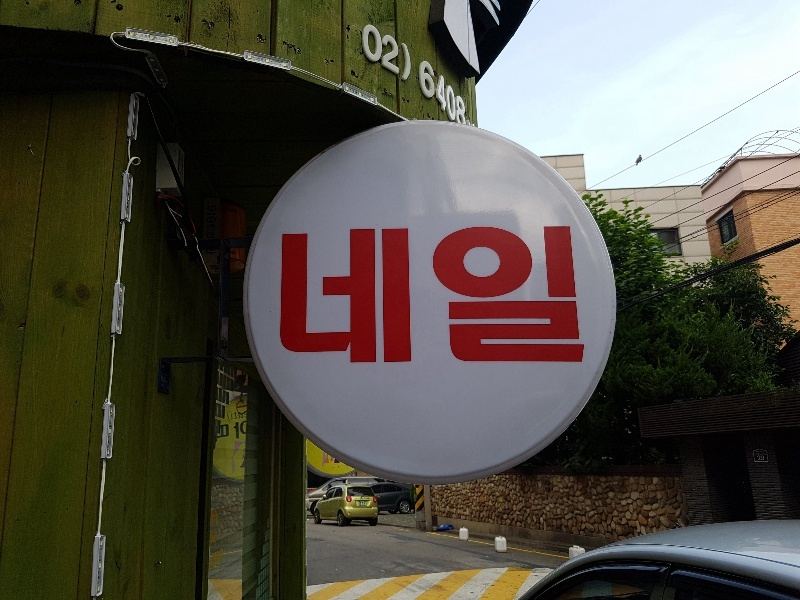text: (289, 221, 304, 369), (305, 221, 320, 369), (321, 221, 336, 369), (337, 221, 352, 369), (353, 221, 368, 369), (369, 221, 384, 369), (385, 221, 400, 369), (401, 221, 416, 369), (417, 221, 432, 369), (433, 221, 448, 369), (449, 221, 464, 369), (465, 221, 480, 369), (481, 221, 496, 369), (497, 221, 512, 369), (513, 221, 528, 369), (529, 221, 544, 369), (545, 221, 560, 369), (561, 221, 576, 369), (577, 221, 592, 369), (278, 221, 288, 369), (433, 52, 448, 132), (449, 52, 464, 132), (369, 19, 384, 86), (385, 19, 400, 86), (401, 19, 416, 86), (420, 52, 432, 132), (465, 52, 472, 132), (363, 19, 368, 86), (232, 420, 240, 442), (216, 424, 224, 443), (241, 421, 247, 438), (225, 424, 229, 443), (239, 421, 240, 438)
